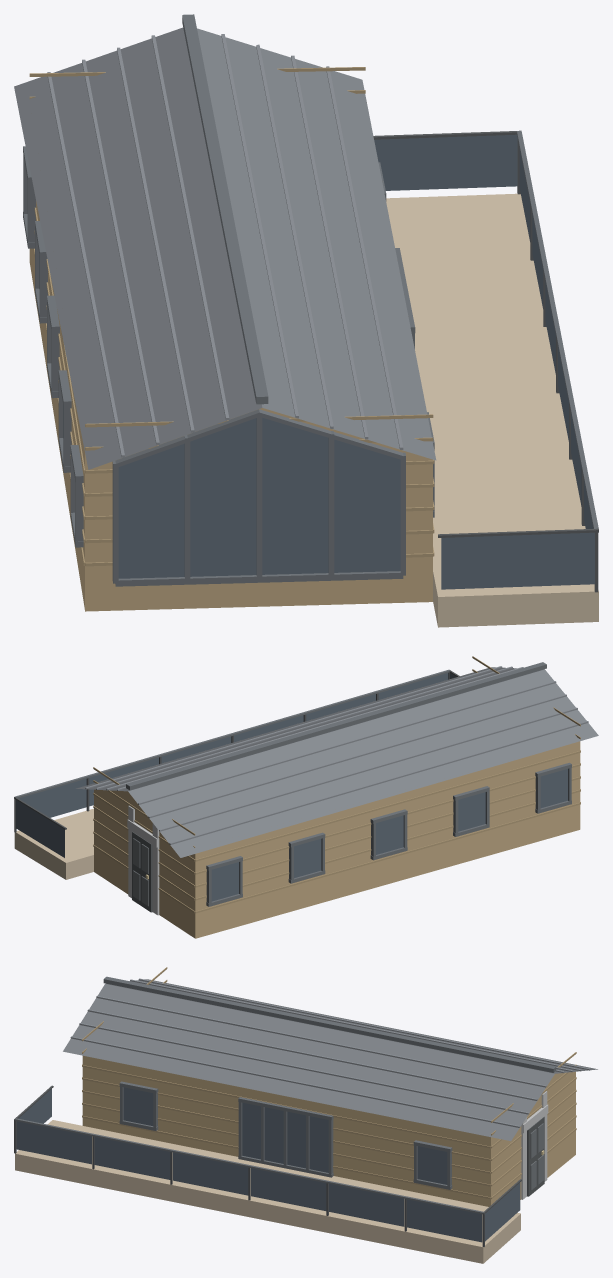
The picture shows the model from 3 angles, top to bottom: view 1: azimuth 30°, elevation 25°; view 2: azimuth 150°, elevation 25°; view 3: azimuth 270°, elevation 25°; orthographic projection. The views are drawn at different scales.
Parts seen in each view (by area): view 1: slate, larch, window_glass_015, slate_dk, door_wood, slate_lt, window_glass_007, window_glass_008, door_wood_p, pipe; view 2: slate, door_wood, slate_dk, slate_lt, door_wood_p, larch, window_glass_006, window_glass_008, stone_band, window_glass_017, window_glass_018, window_glass_019 (+10 smaller); view 3: slate, door_wood, larch, slate_dk, slate_lt, door_wood_p, window_glass_002, window_glass_001, window_glass_003, window_glass_004, window_glass_005, window_glass_006 (+12 smaller).
Part boxes in pixels (x1,y1,x2,y2): slate: (14, 27, 436, 469); larch: (386, 193, 598, 627); window_glass_015: (118, 417, 400, 578); slate_dk: (23, 14, 598, 586); door_wood: (29, 201, 432, 611); slate_lt: (47, 34, 403, 457); window_glass_007: (441, 532, 594, 589); window_glass_008: (374, 134, 517, 190); door_wood_p: (29, 67, 434, 566); pipe: (373, 130, 598, 592); slate: (76, 667, 598, 857); door_wood: (94, 741, 580, 938); slate_dk: (15, 662, 571, 906); slate_lt: (85, 666, 588, 844); door_wood_p: (93, 656, 580, 913); larch: (14, 808, 93, 879); window_glass_006: (19, 778, 86, 817); window_glass_008: (16, 800, 64, 857); stone_band: (127, 805, 159, 915); window_glass_017: (294, 839, 321, 878); window_glass_018: (376, 815, 403, 854); window_glass_019: (458, 792, 485, 831); slate: (63, 979, 597, 1140); door_wood: (82, 1055, 575, 1206); larch: (15, 1120, 520, 1263); slate_dk: (15, 976, 556, 1214); slate_lt: (70, 978, 590, 1127); door_wood_p: (82, 967, 576, 1199); window_glass_002: (94, 1137, 170, 1179); window_glass_001: (16, 1121, 91, 1164); window_glass_003: (173, 1152, 248, 1195); window_glass_004: (251, 1168, 326, 1210); window_glass_005: (329, 1183, 404, 1226); window_glass_006: (407, 1199, 482, 1242).
Bounding box in the file's own units: 12.71 × 3.72 × 15.86.
